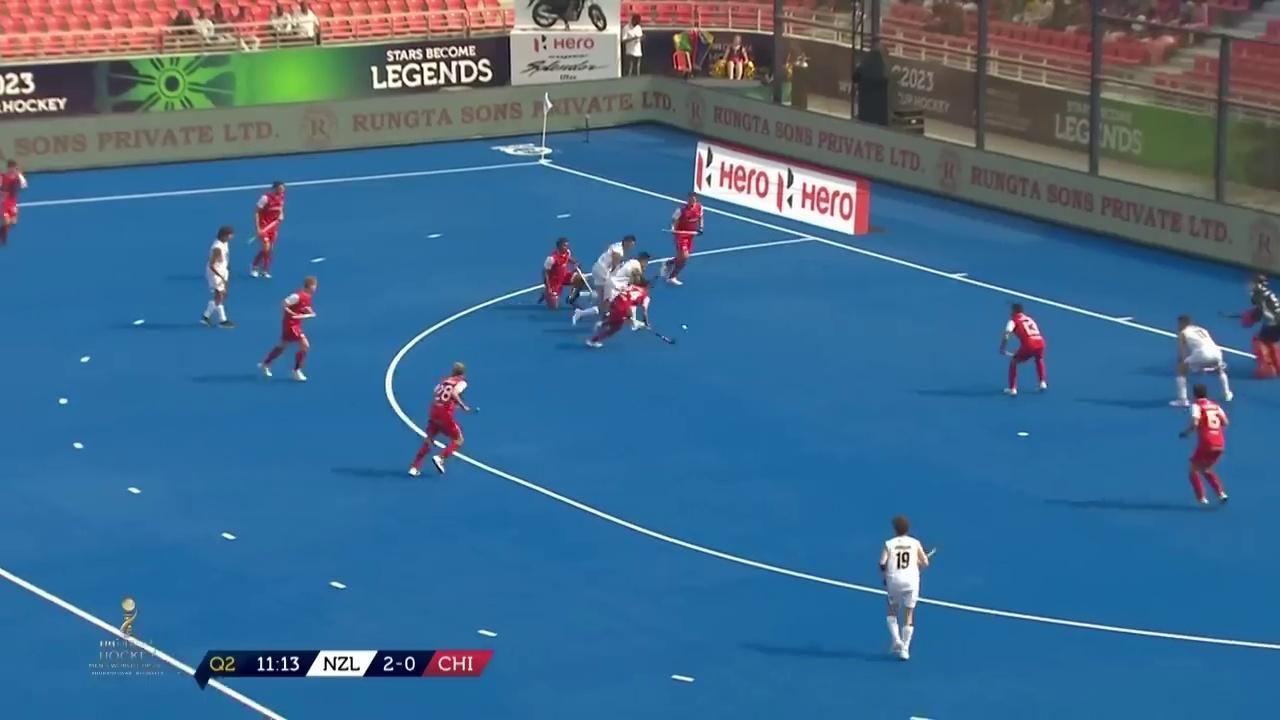ball: (677, 313, 691, 336)
